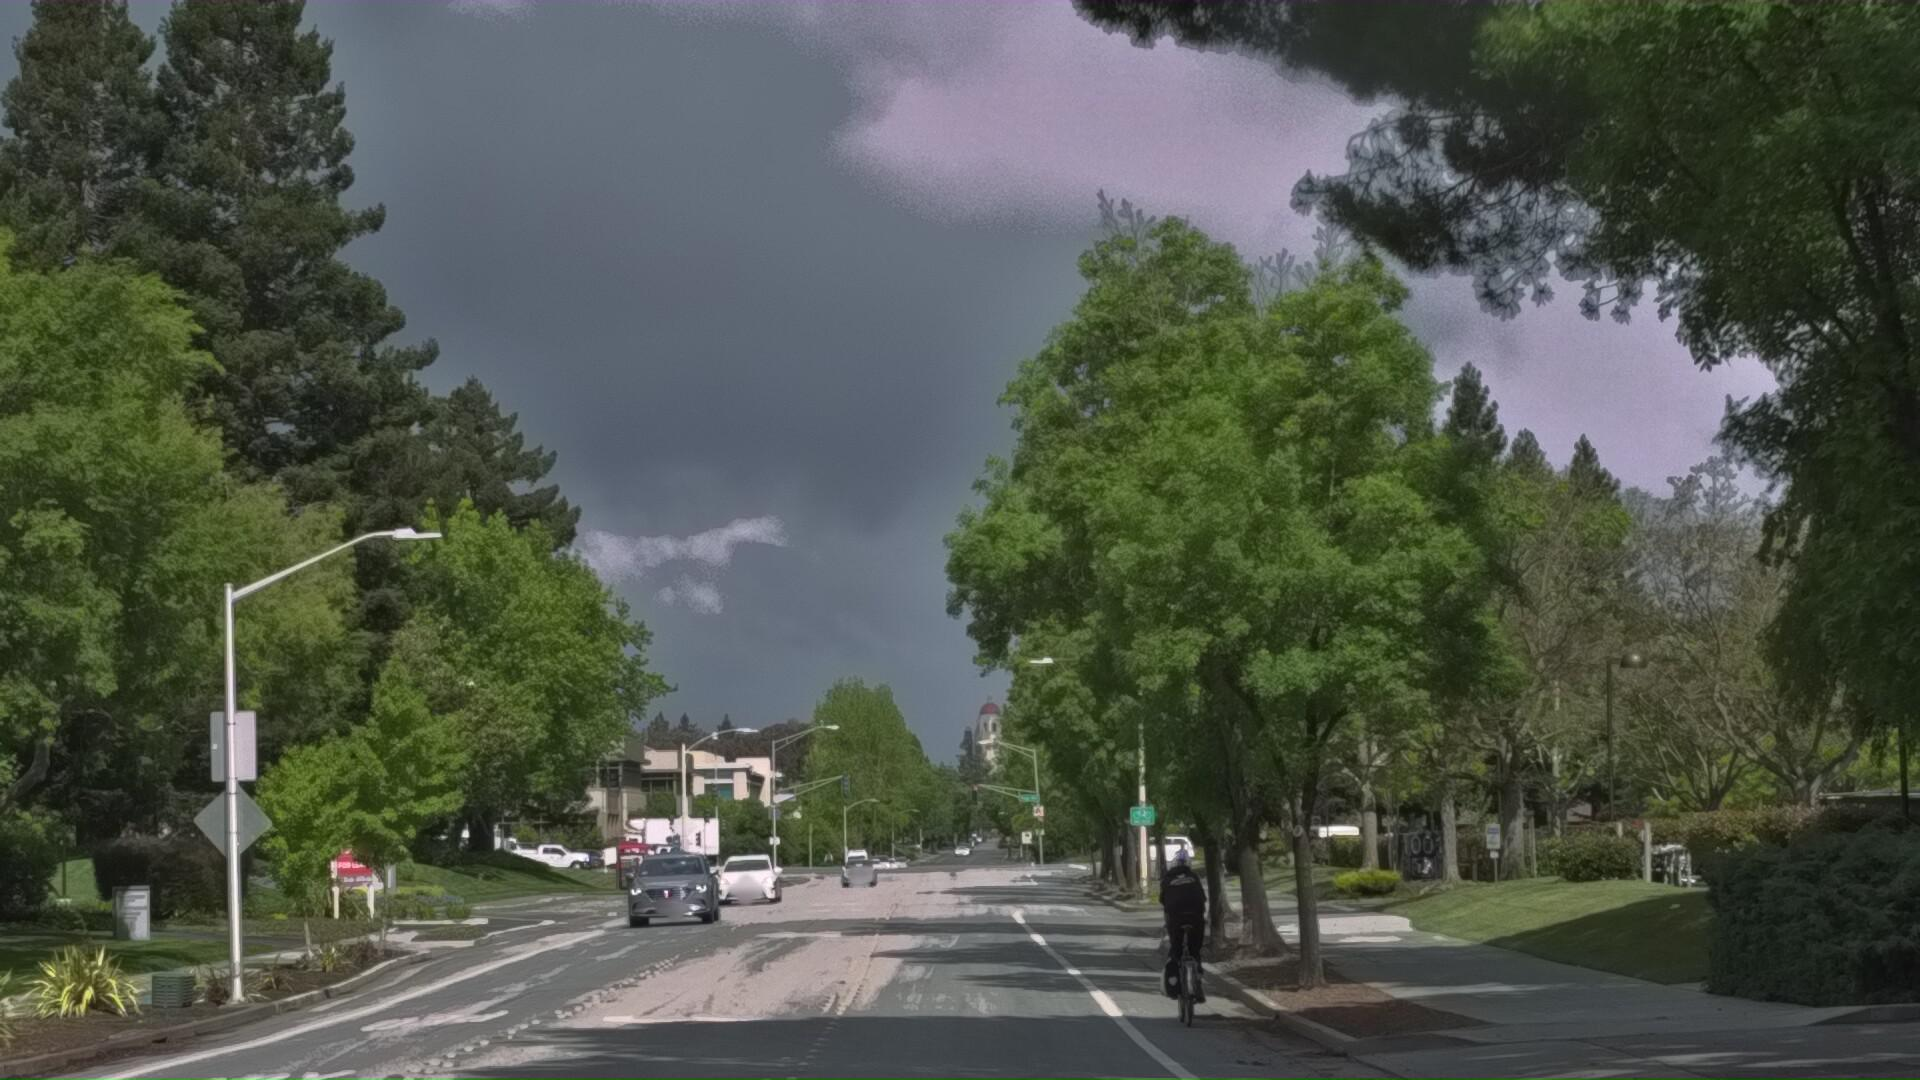bicycle: (1127, 928, 1238, 1080)
car: (615, 928, 716, 1014)
